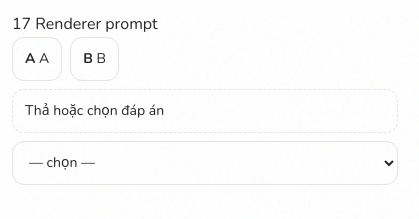
Scenario: a bank of bare letters keeps the letter in the box
The width and height of the screenshot is (419, 219).
Click the button "B B" at (95, 59), box [70, 37, 119, 81]
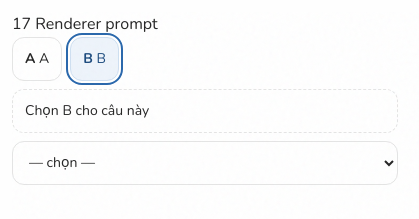
Click the button named "Renderer prompt" at (87, 111), box [12, 89, 398, 133]
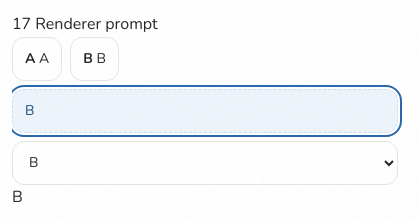
expect the button named "Renderer prompt" reads "B": met, box [12, 89, 398, 133]
